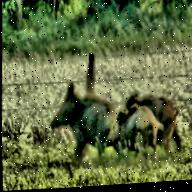boar: (41, 74, 117, 160), (123, 84, 184, 145), (108, 101, 161, 153)
